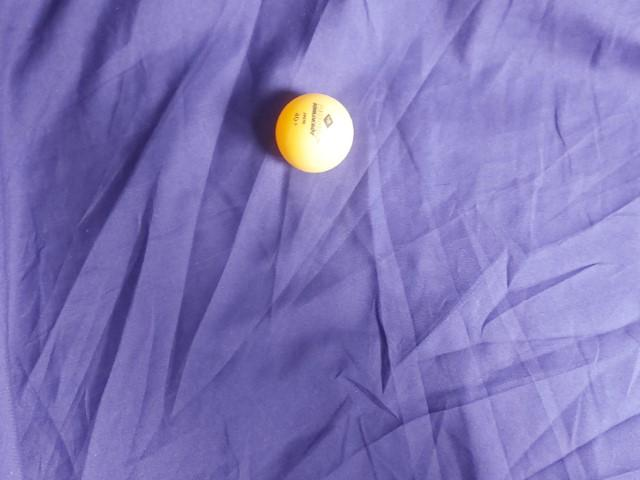oball: (271, 297, 373, 395)
